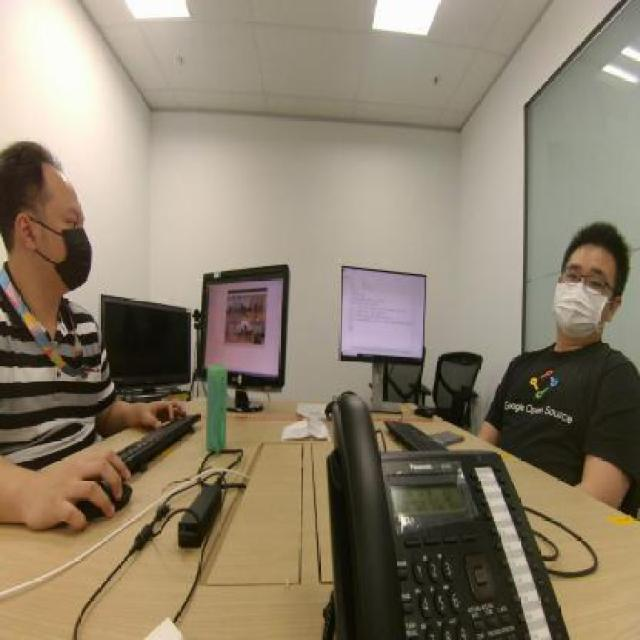Person: (484, 179, 638, 495), (4, 132, 121, 453)
